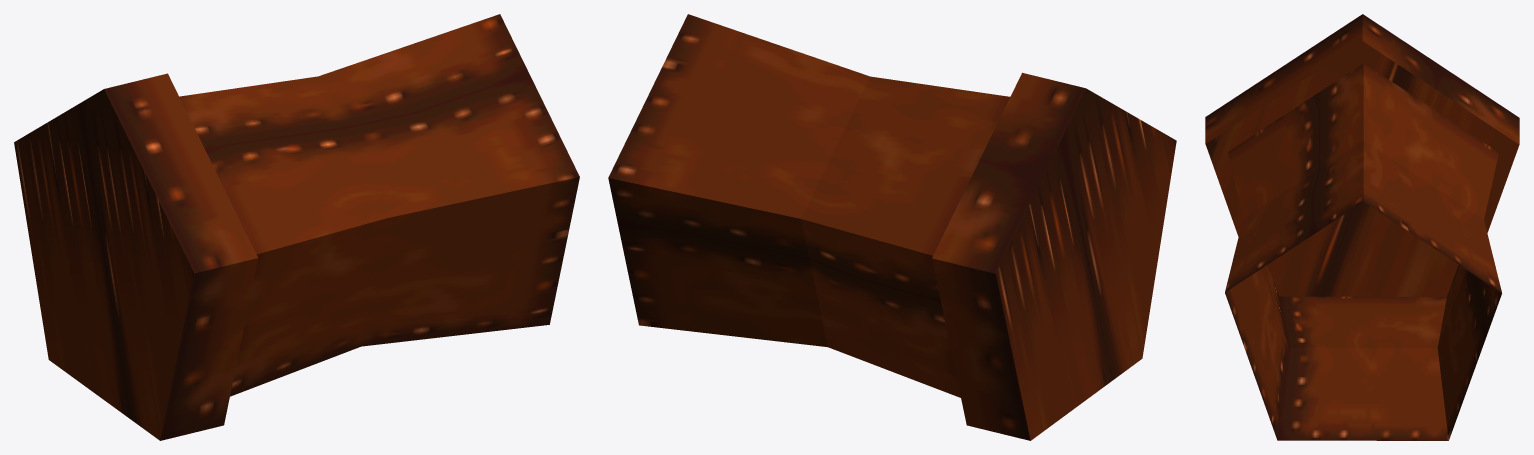
File: Rohr_Stück [Rot]_1520.glb
3 renders of one model, left to right at view 1: azimuth 30°, elevation 25°; view 2: azimuth 150°, elevation 25°; view 3: azimuth 270°, elevation 25°, orthographic. The views are drawn at different scales.
Visible parts, largest first — view 1: pCylinderShape75, pCylinderShape76; view 2: pCylinderShape75, pCylinderShape76; view 3: pCylinderShape75, pCylinderShape76.
Boxes of the visible parts, x1=… form: pCylinderShape75: x1=179, y1=14, x2=579, y2=396; pCylinderShape76: x1=14, y1=73, x2=257, y2=440; pCylinderShape75: x1=608, y1=14, x2=1009, y2=397; pCylinderShape76: x1=932, y1=72, x2=1176, y2=440; pCylinderShape75: x1=1225, y1=63, x2=1501, y2=440; pCylinderShape76: x1=1205, y1=14, x2=1519, y2=296.
Size of the model in its own units: 0.545 by 0.4087 by 0.4294.
2 materials, 2 textured.
